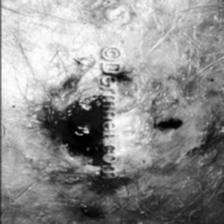Potentially Malignant Skin Tumors: (105, 109, 183, 177), (39, 96, 109, 168)
